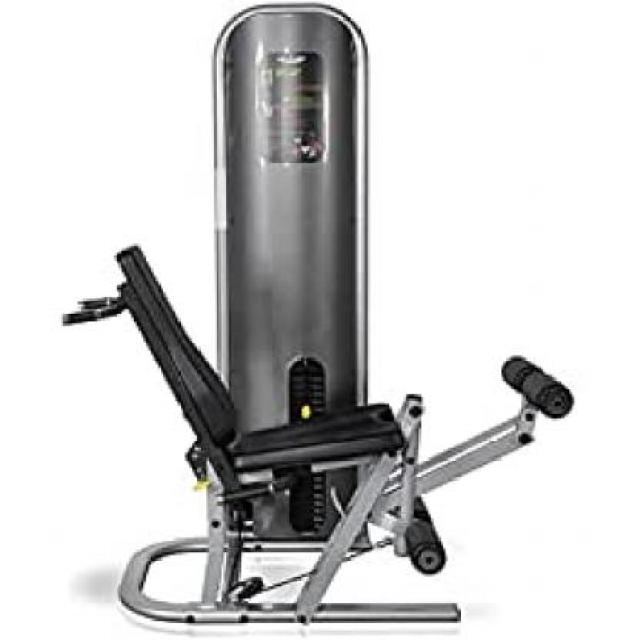leg extension: (59, 242, 579, 620)
